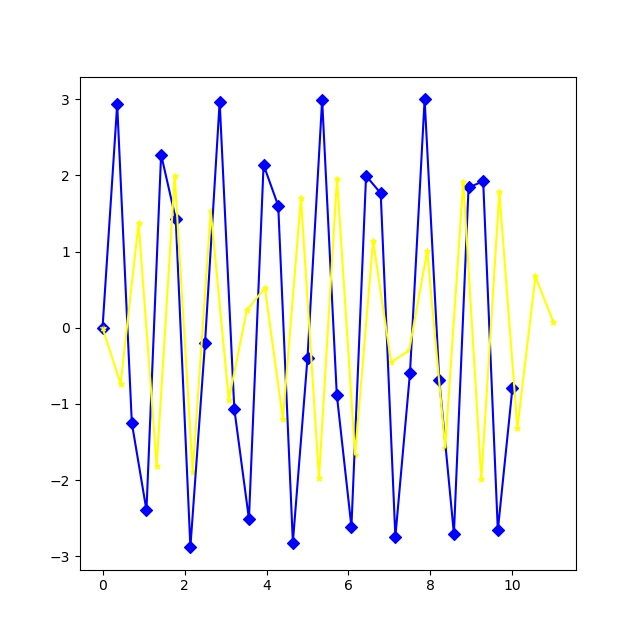diamond: (98, 323, 109, 334), (112, 99, 123, 110), (127, 418, 138, 429), (141, 505, 152, 516), (156, 150, 167, 161), (171, 214, 182, 225), (185, 542, 196, 553), (200, 338, 211, 349), (215, 97, 226, 108), (229, 404, 240, 415), (244, 514, 255, 525), (259, 160, 270, 171), (273, 201, 284, 212), (288, 538, 299, 549), (303, 353, 314, 364), (317, 95, 328, 106), (332, 390, 343, 401), (346, 522, 357, 533), (361, 171, 372, 182), (376, 188, 387, 199), (390, 532, 401, 543), (405, 368, 416, 379), (420, 94, 431, 105), (434, 375, 445, 386), (449, 529, 460, 540), (464, 182, 475, 193), (478, 176, 489, 187), (493, 525, 504, 536), (507, 383, 518, 394)
star: (99, 324, 108, 333), (117, 380, 126, 389), (135, 219, 144, 228), (153, 462, 162, 471), (171, 172, 180, 181), (189, 468, 198, 477), (207, 207, 216, 216), (225, 396, 234, 405), (243, 306, 252, 315), (261, 284, 270, 293), (279, 415, 288, 424), (297, 194, 306, 203), (315, 474, 324, 483), (333, 175, 342, 184), (351, 451, 360, 460), (369, 237, 378, 246), (387, 358, 396, 367), (405, 346, 414, 355), (423, 247, 432, 256), (441, 444, 450, 453), (459, 178, 468, 187), (477, 475, 486, 484), (495, 188, 504, 197), (513, 424, 522, 433), (531, 272, 540, 281), (549, 318, 558, 327)
